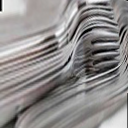fork: (1, 3, 128, 123)
